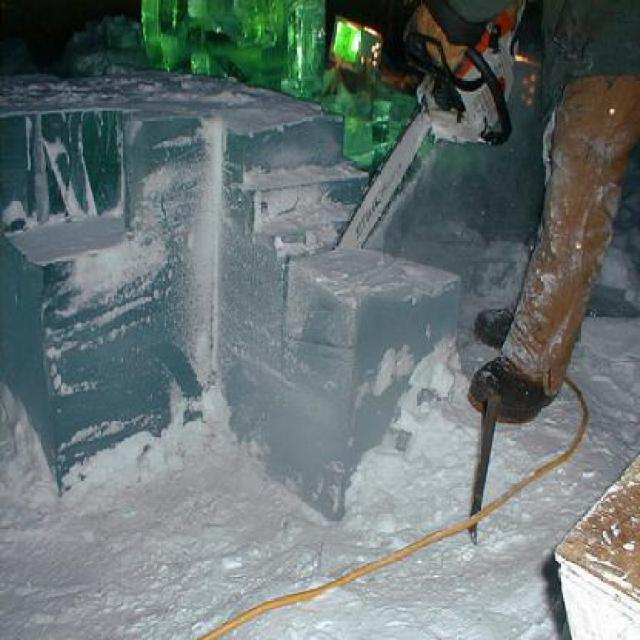Chainsaw: (332, 0, 533, 251)
